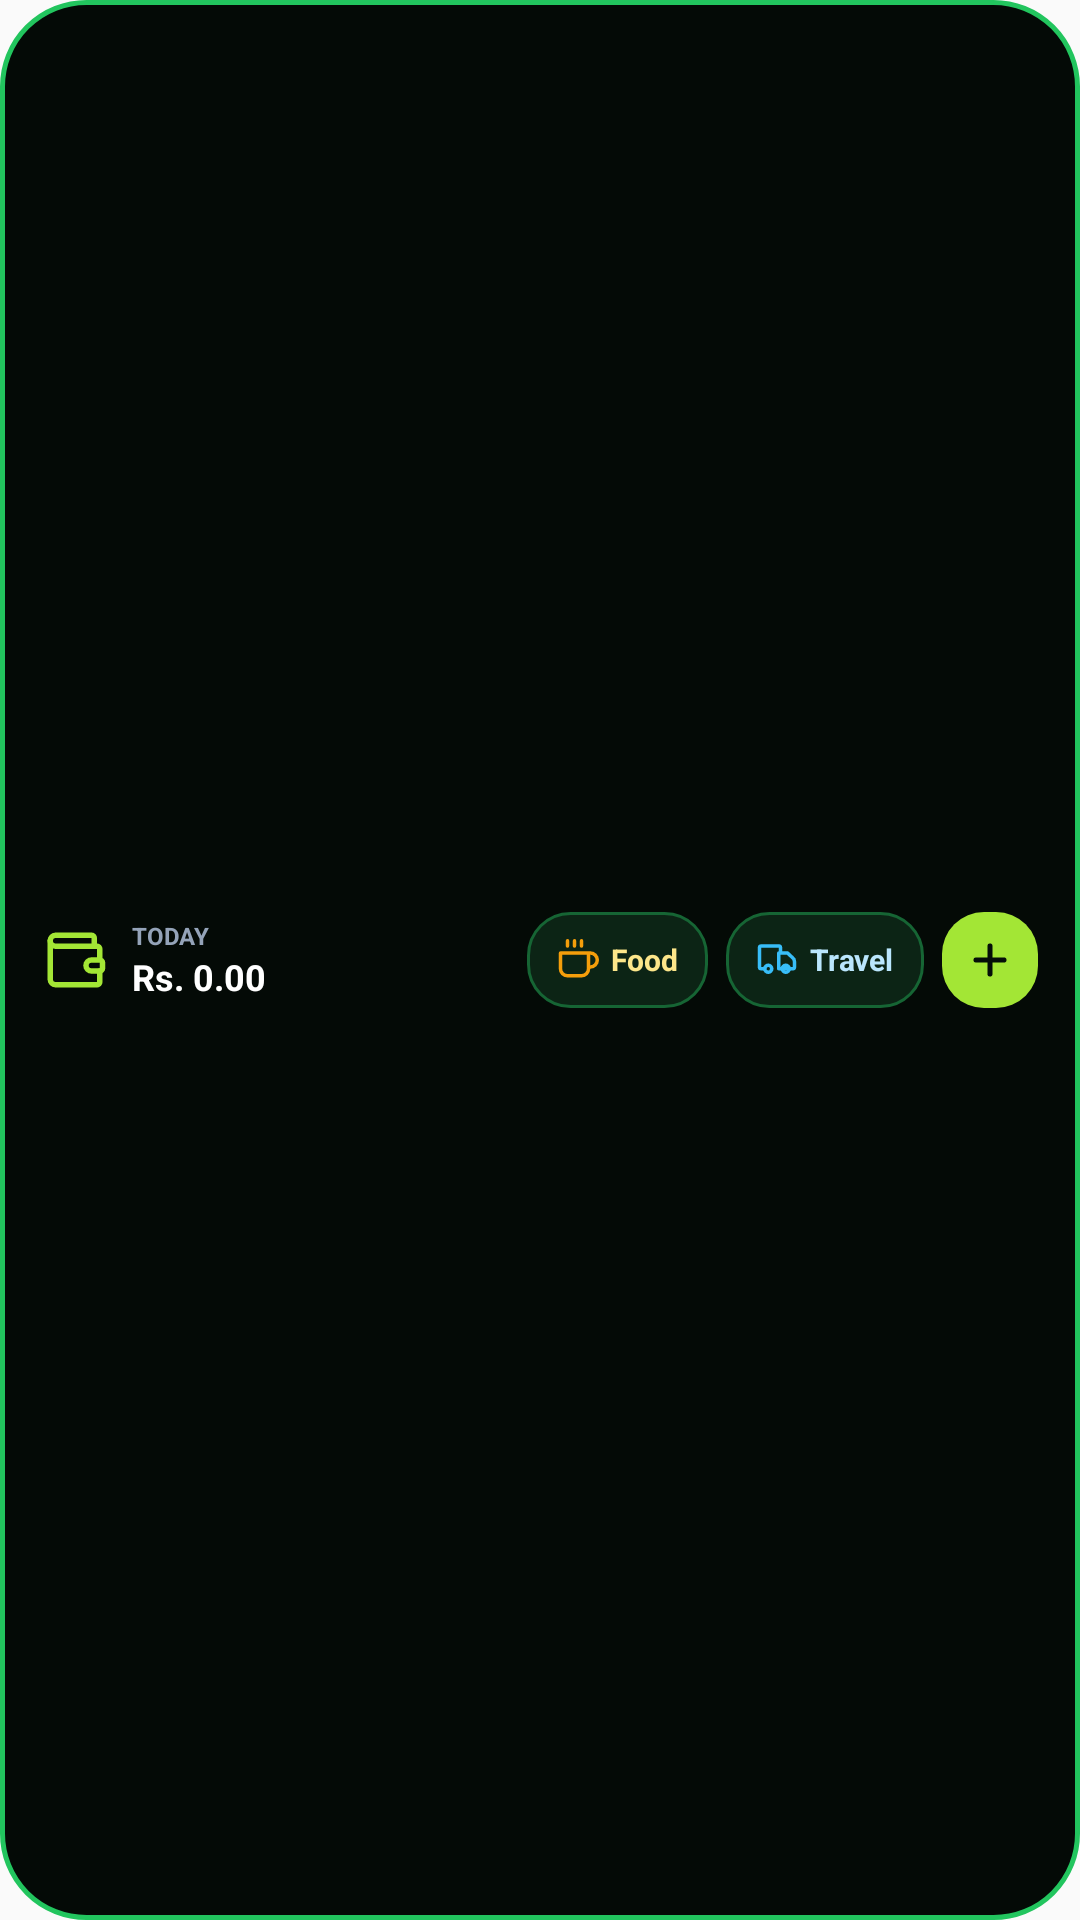

Named icons in this screenshot (1080w x 1920h) and their centers, (x=x, y=y):
widget plus: (x=990, y=960)
widget wallet: (x=76, y=960)
